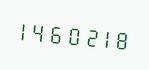eight: (113, 23, 128, 54)
four: (33, 16, 48, 47)
one: (17, 15, 32, 46), (97, 22, 112, 53)
six: (49, 17, 64, 49)
two: (81, 20, 96, 51)
zero: (65, 19, 80, 50)
